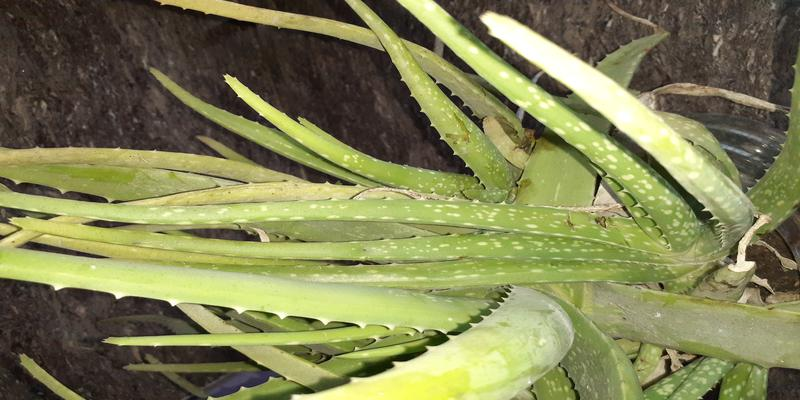Aloevera: (79, 121, 747, 385)
